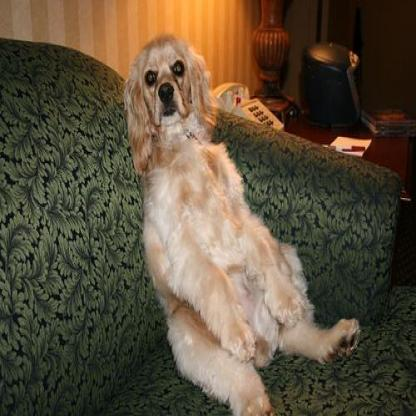cocker_spaniel: (122, 30, 360, 412)
